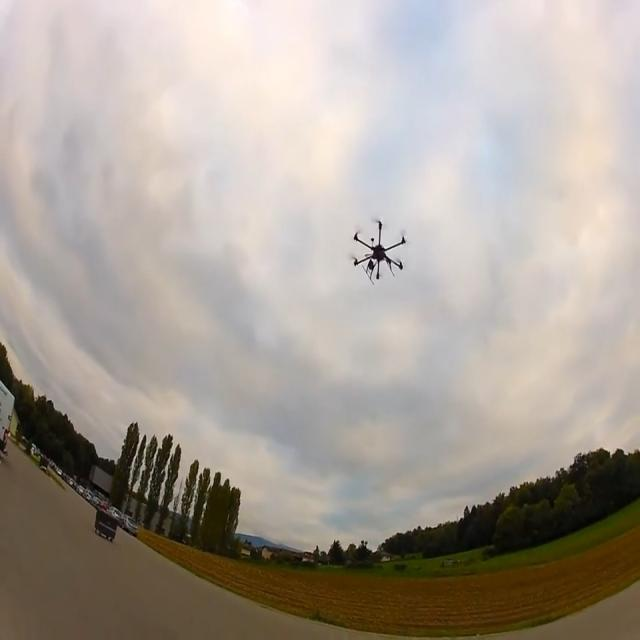drone: (351, 218, 406, 284)
